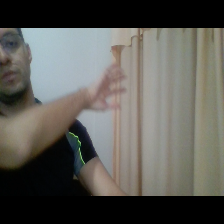left: (85, 59, 134, 115)
